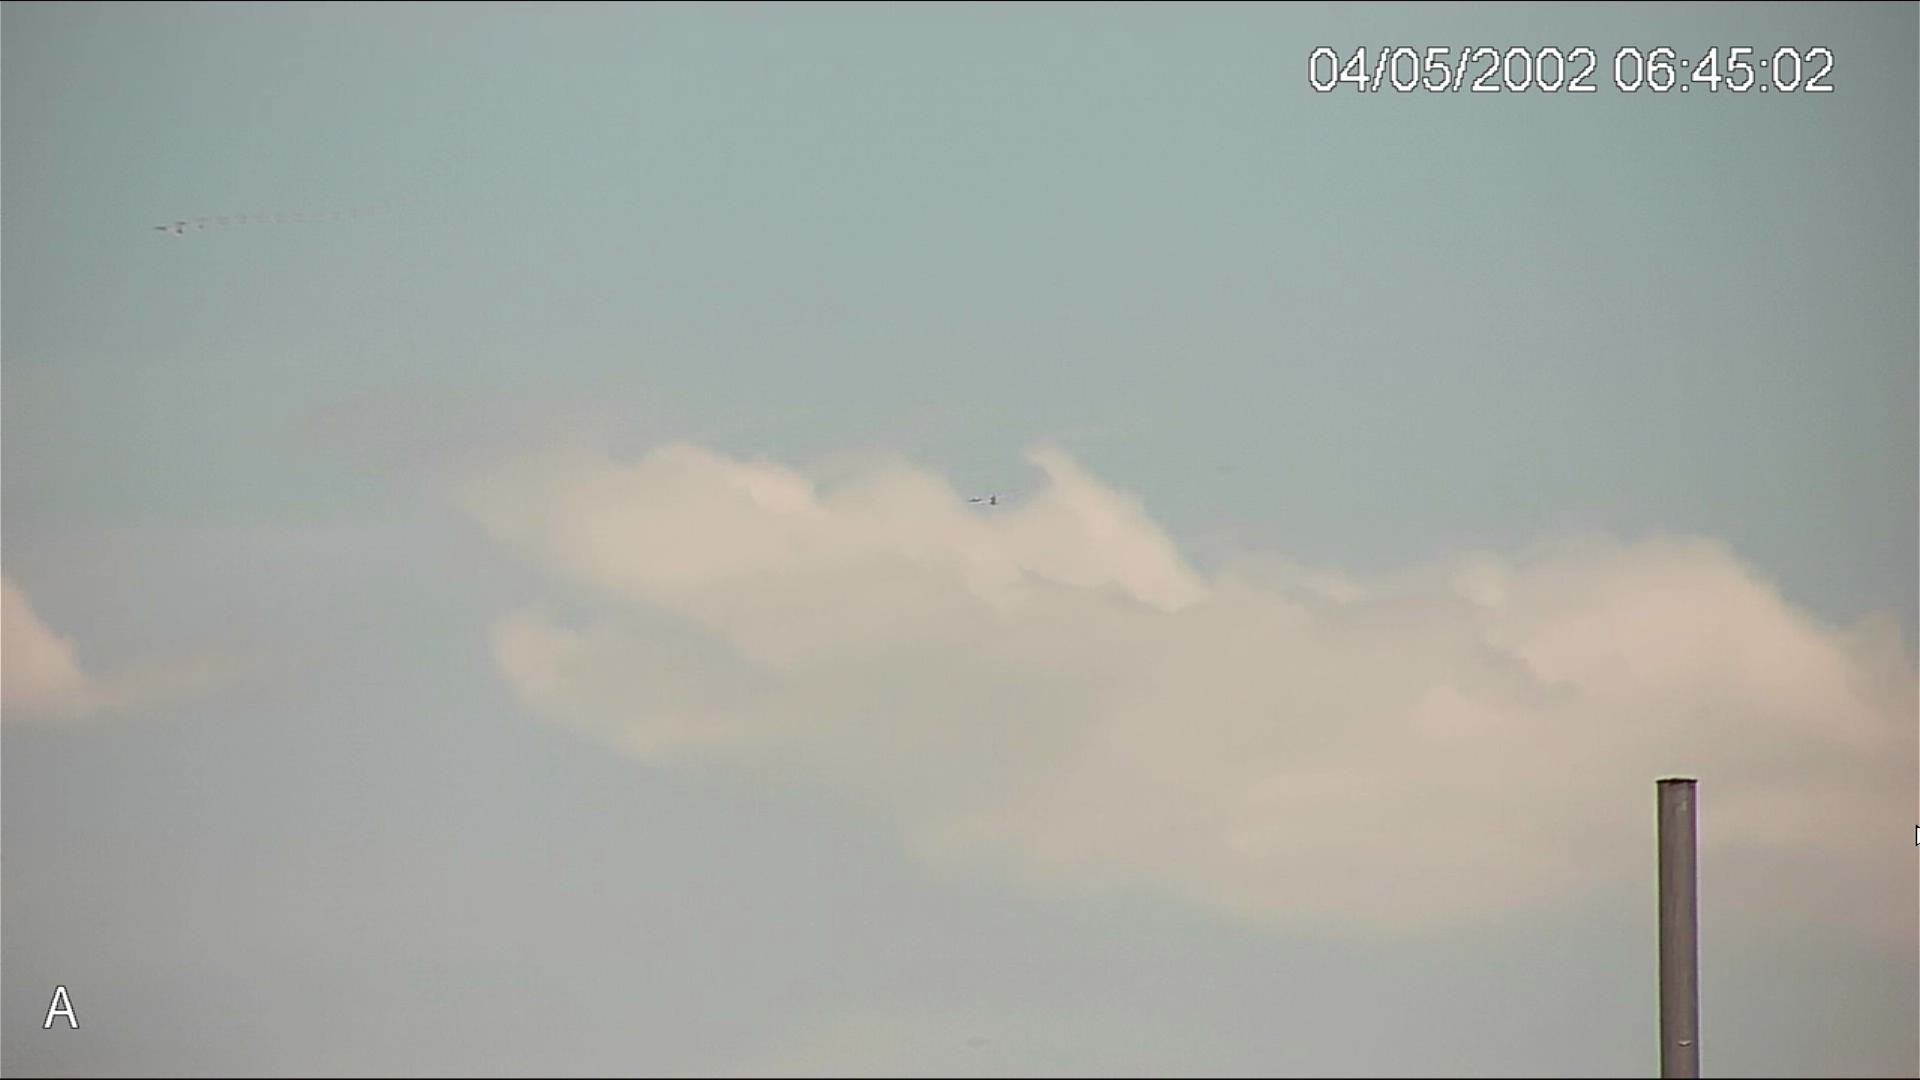SU_30: (971, 493, 1002, 509)
